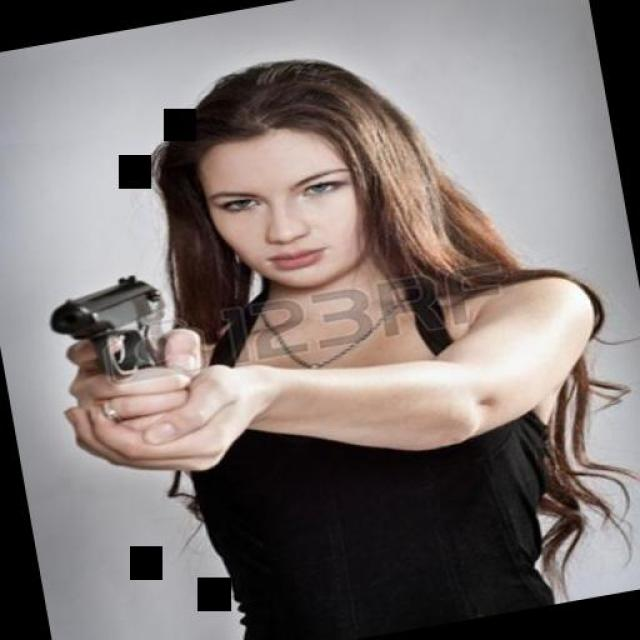gun: (43, 266, 175, 389)
